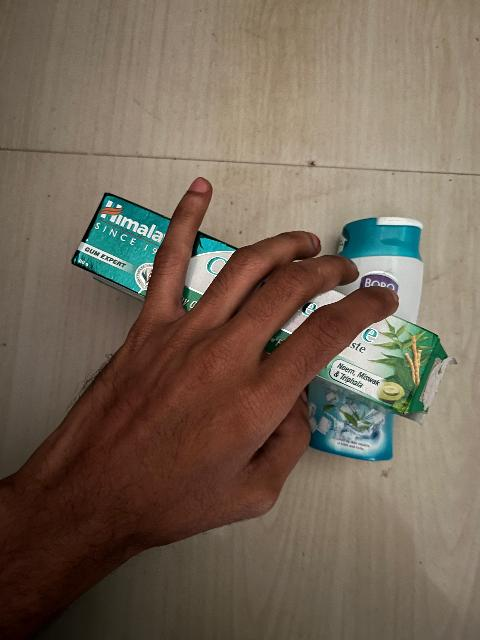boroplus: (330, 196, 448, 328)
hand: (176, 174, 325, 414)
himalaya toothpaste: (62, 175, 156, 293)
